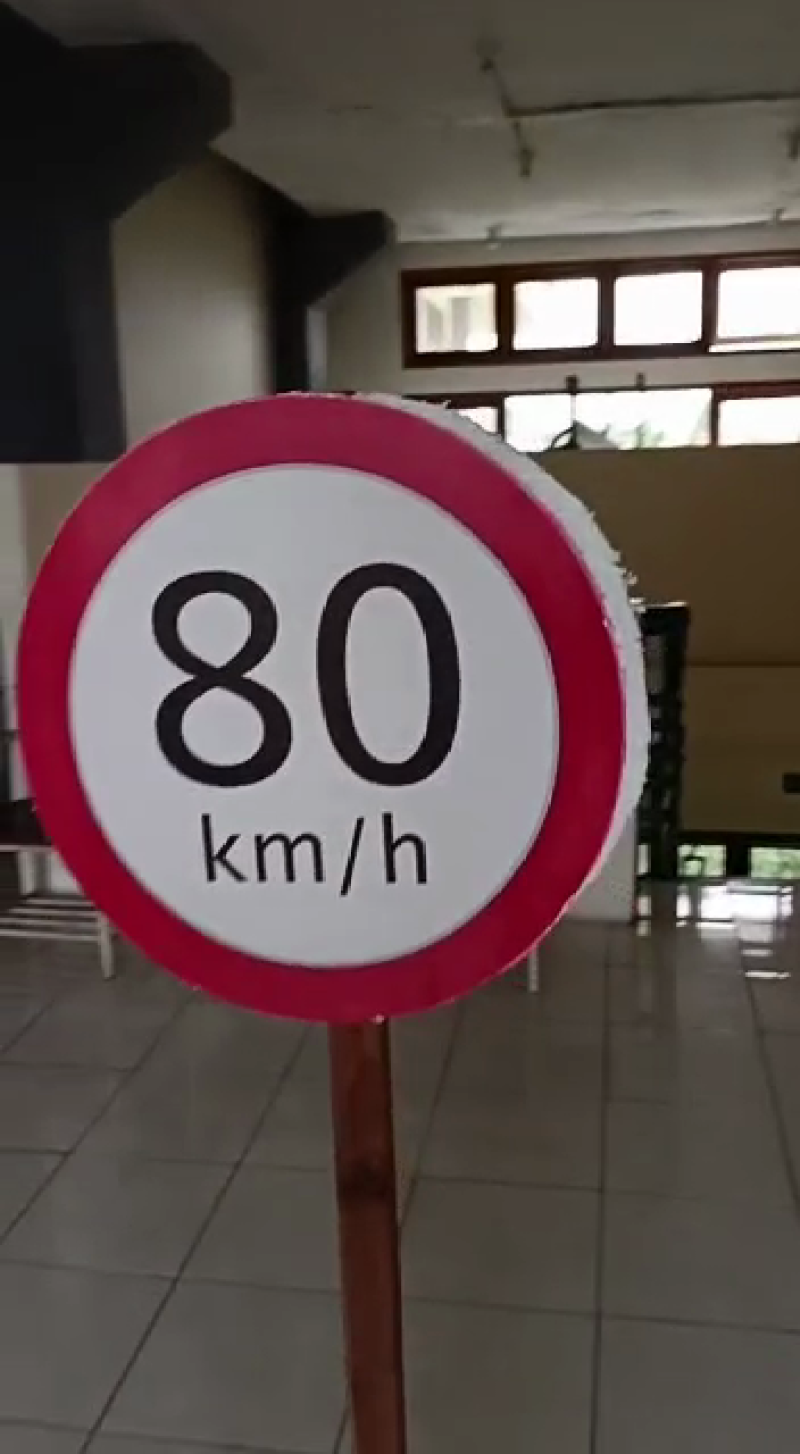batas maksimal 80kmperjam: (1, 393, 630, 1040)
